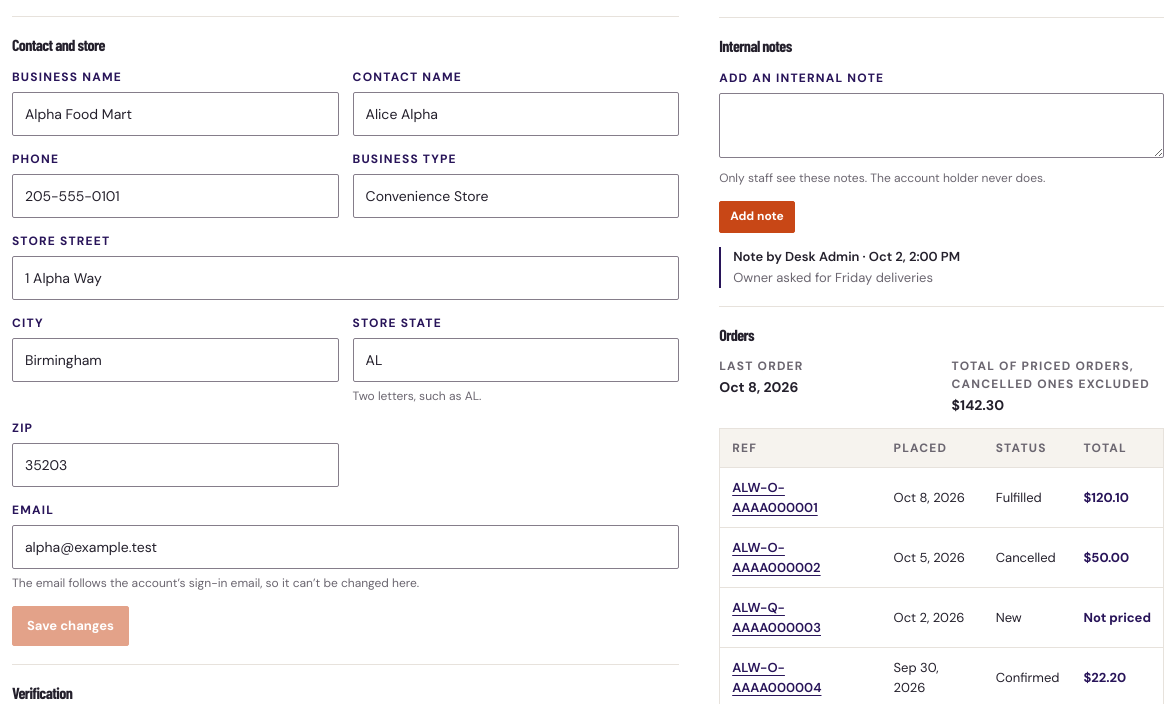
Test: an account’s page (AW-113) › shows a refused save and one the live database can’t take, and keeps what was typed
(page scrolled)
Replace the text in the field labelled "City" with "Hoover" at (175, 360), box [12,338,339,382]
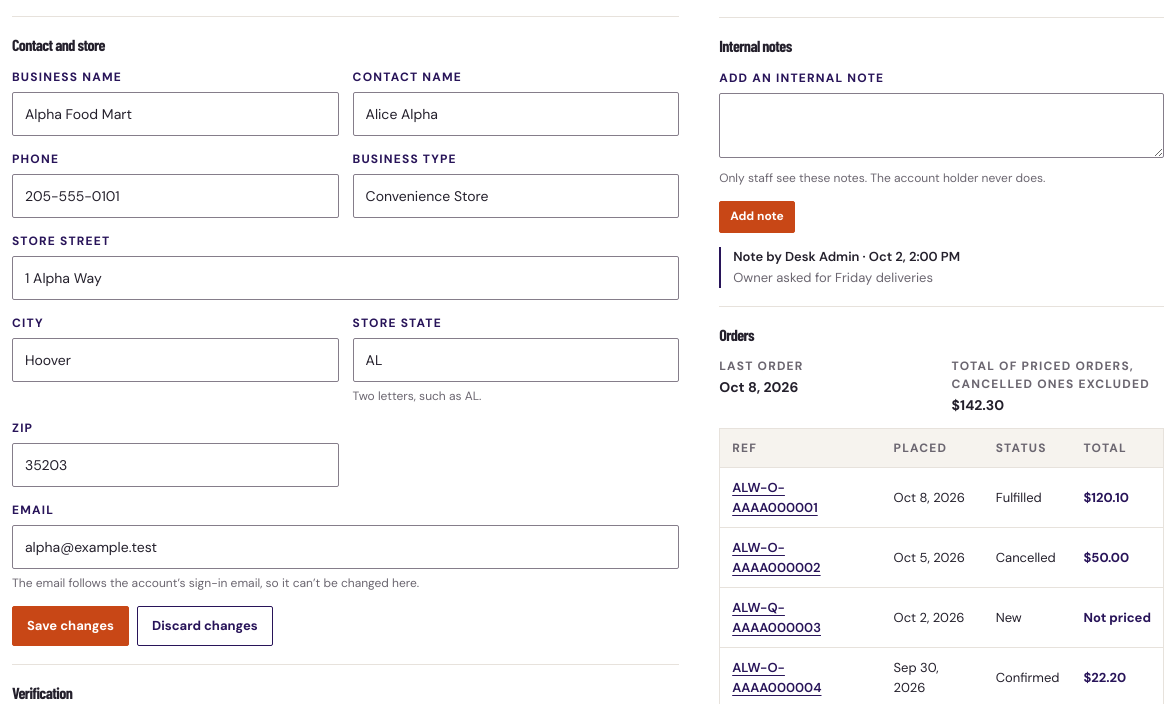
Submit the form that starts with "Business name", box [12,68,679,646]
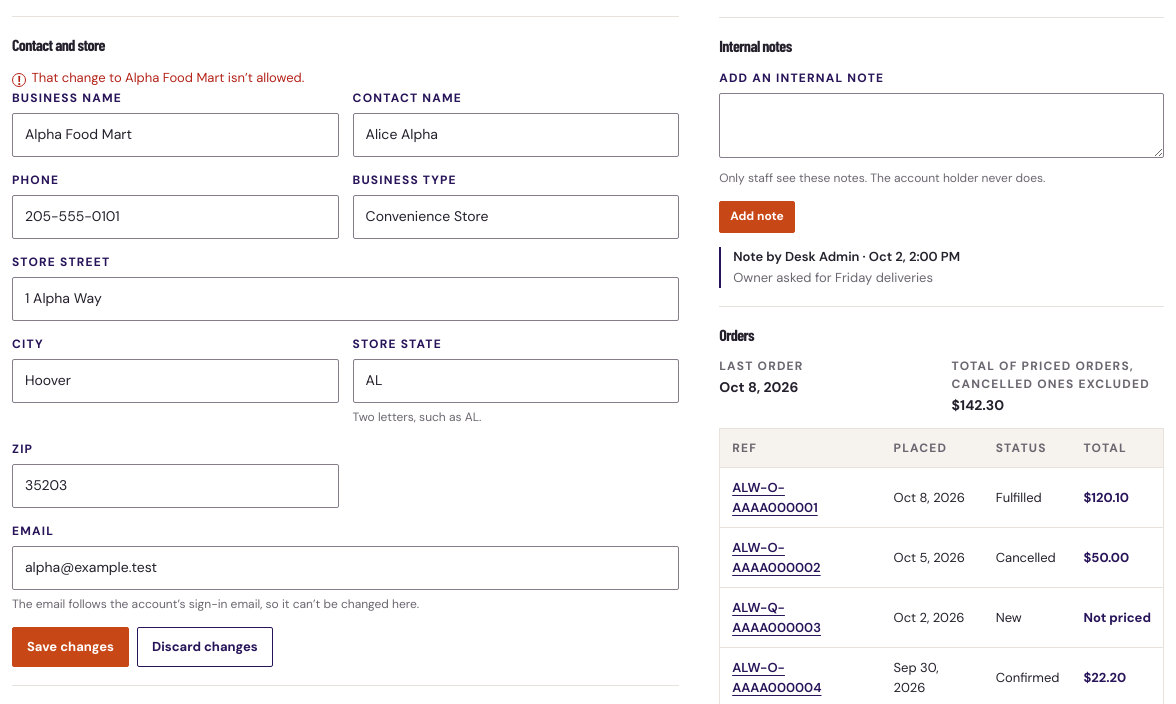
Check: the message reads "That change to Alpha Food Mart isn’t allowed.", box [32,69,304,86]
Submit the form that starts with "Business name", box [12,89,679,667]
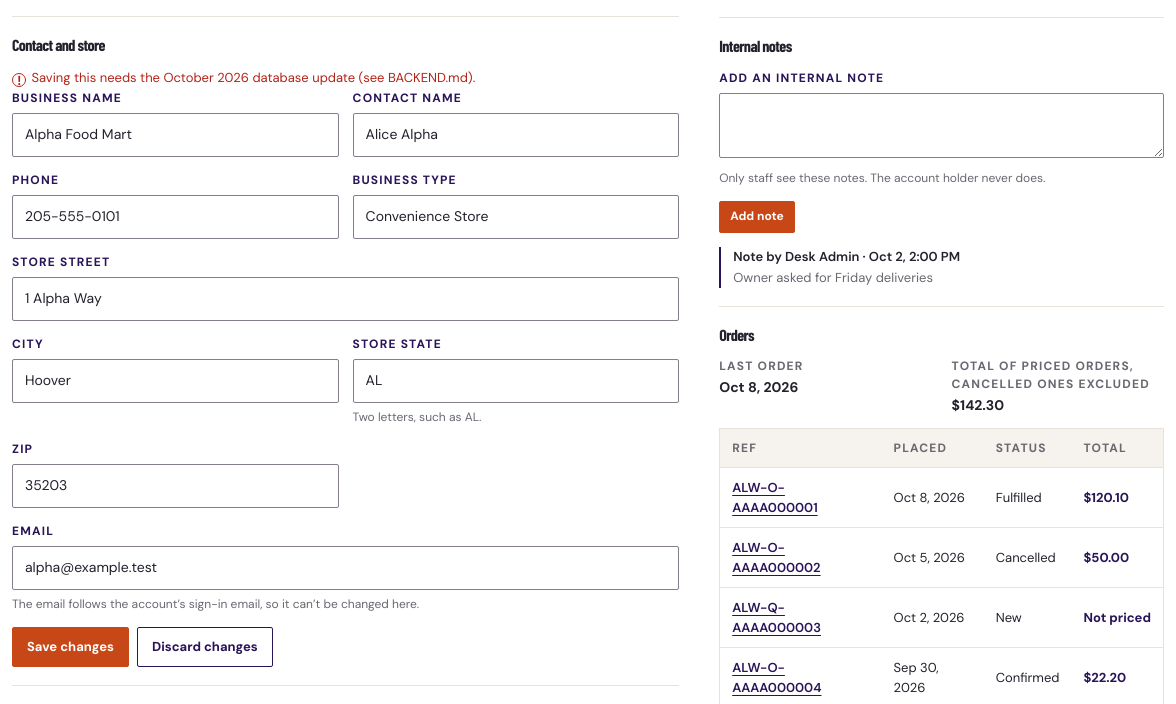
Check: the message reads "Saving this needs the October 2026 database update (see BACKEND.md).", box [32,69,475,86]
